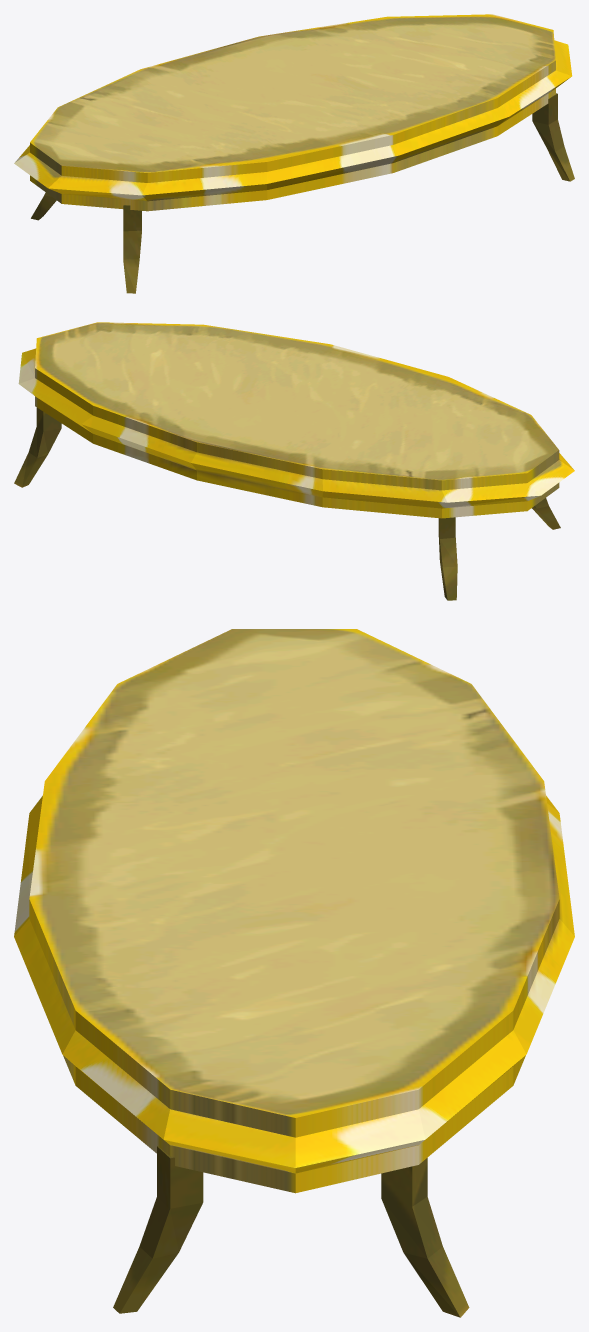
File: DecTable.glb
3 views of the same model, one above another, from view 1: azimuth 30°, elevation 25°; view 2: azimuth 150°, elevation 25°; view 3: azimuth 270°, elevation 25° (orthographic). The views are drawn at different scales.
Parts seen in each view (by area): view 1: DecTable; view 2: DecTable; view 3: DecTable.
Part boxes in pixels (x1,y1,x2,y2): DecTable: (14, 14, 574, 293); DecTable: (14, 322, 574, 600); DecTable: (14, 629, 574, 1317).
Bounding box in the file's own units: 297 × 58.39 × 136.
Materials: 1 (1 with a texture image).
